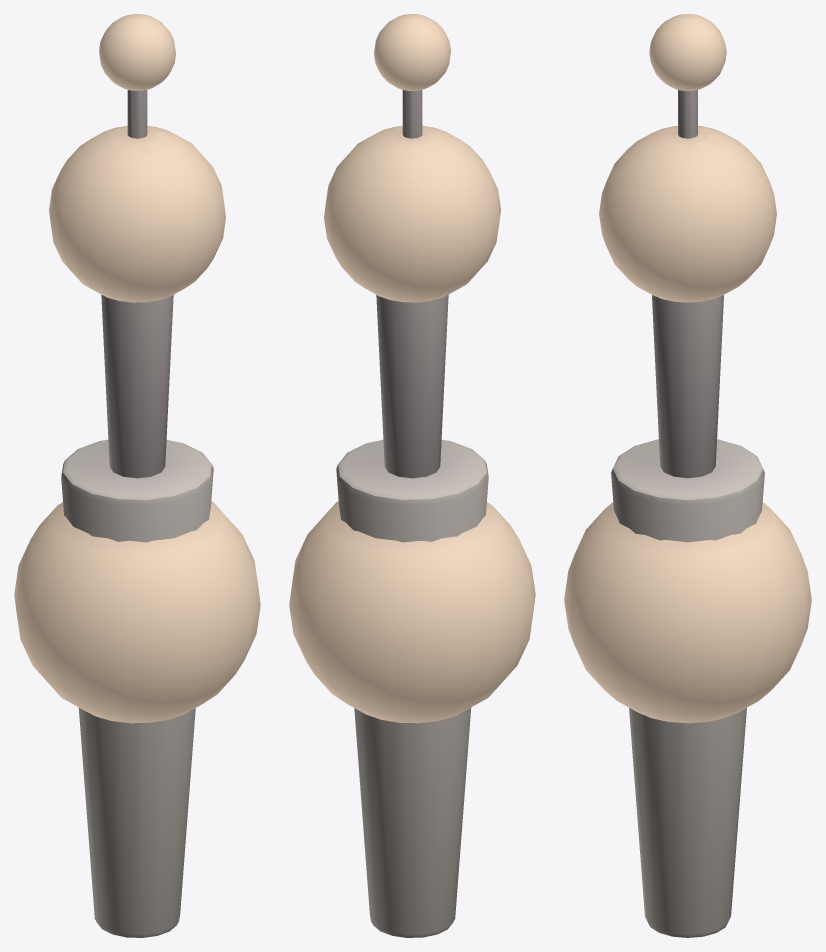
The picture shows the model from 3 angles, left to right: view 1: azimuth 30°, elevation 25°; view 2: azimuth 150°, elevation 25°; view 3: azimuth 270°, elevation 25°; orthographic projection.
Parts seen in each view (by area): view 1: landmark_5ba80205; view 2: landmark_5ba80205; view 3: landmark_5ba80205.
Boxes of the visible parts, x1,y1,x2,y2 form: landmark_5ba80205: (14,14,260,937); landmark_5ba80205: (289,14,535,937); landmark_5ba80205: (564,14,811,937).
Size of the model in its own units: 3.2 by 12.9 by 3.2.
